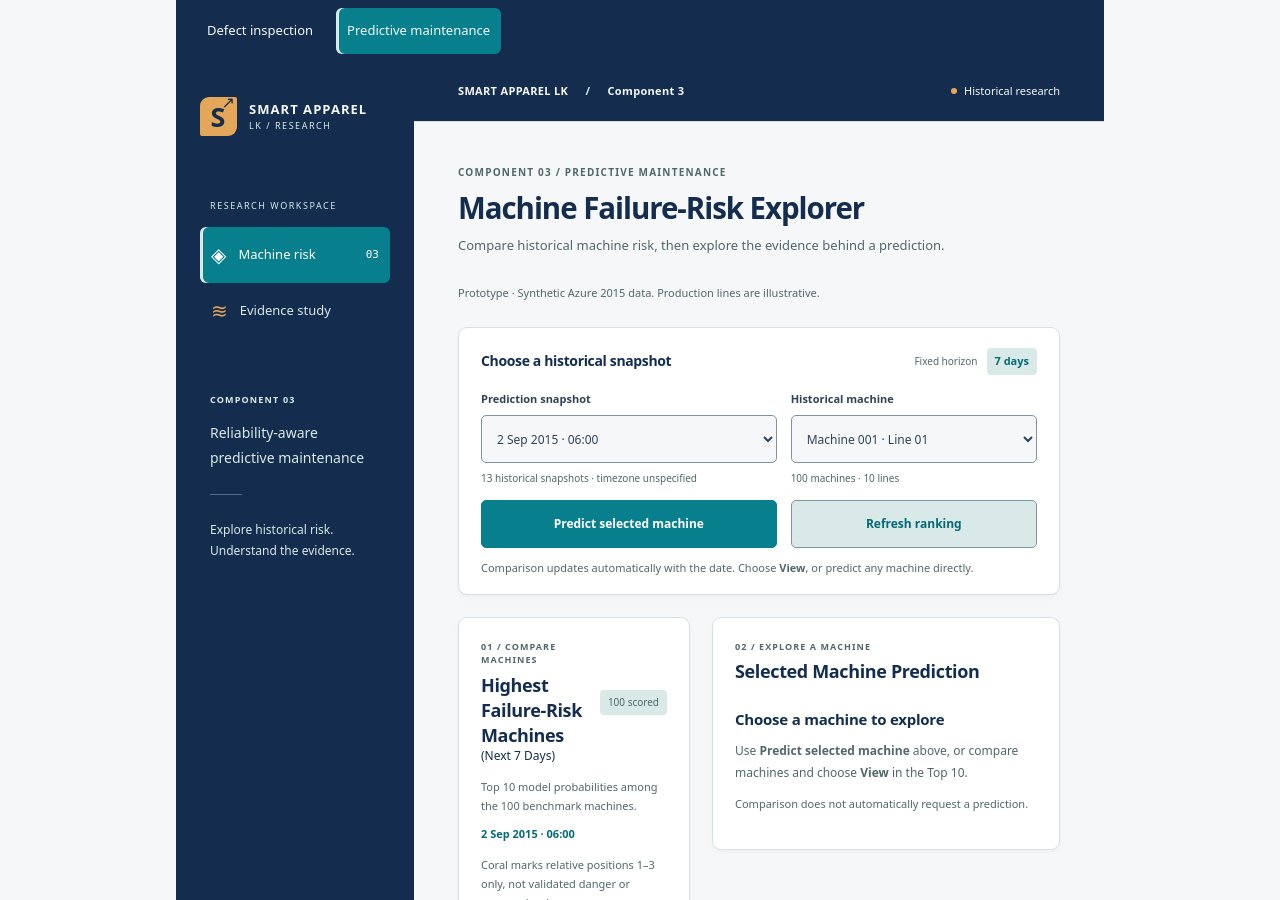
Test: Component 3 historical prediction page › shows loading status and prevents duplicate submissions
The image size is (1280, 900).
Click the button "Predict selected machine" at (629, 524), box [481,500,777,548]
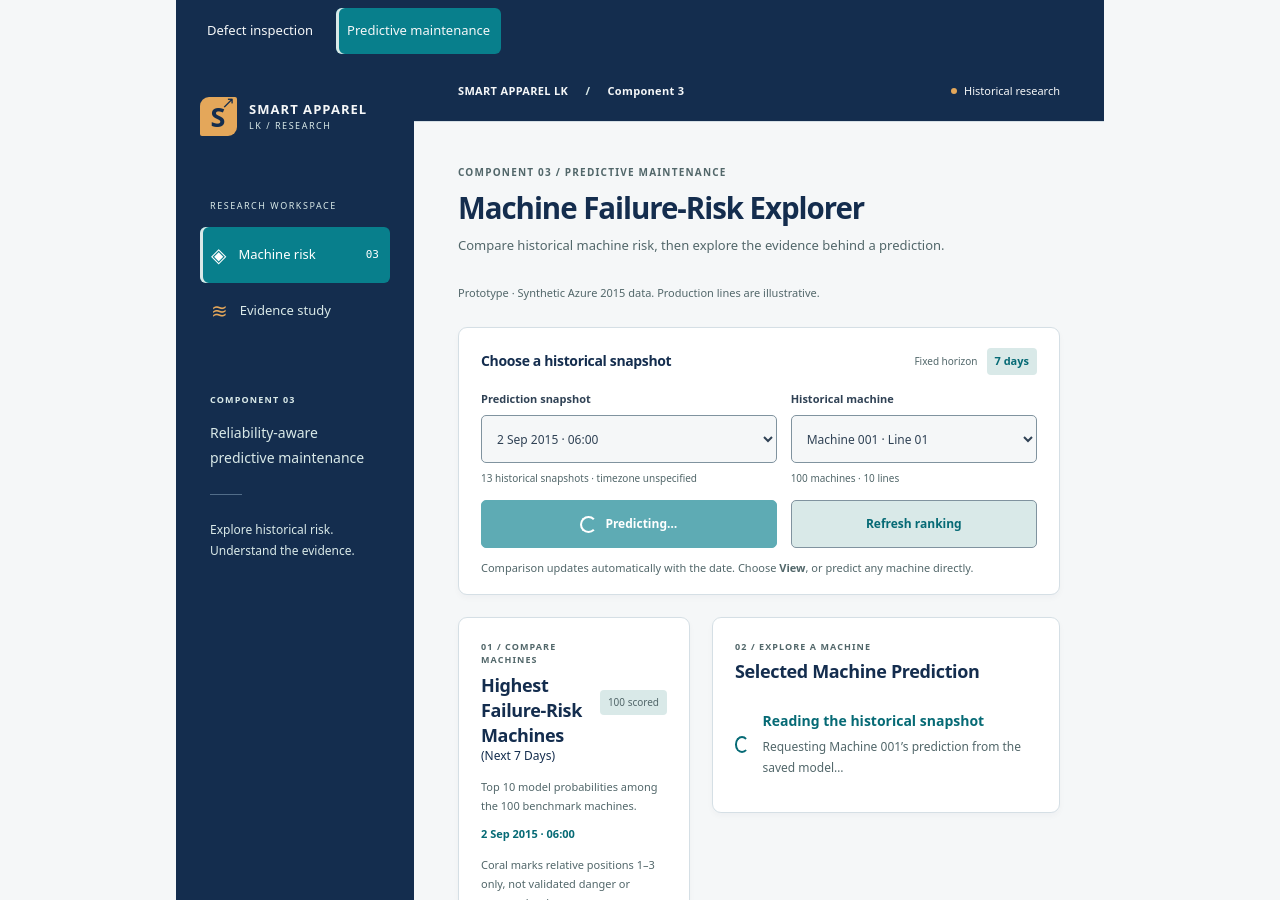
Now the message shows "Reading the historical snapshot", box [762,712,984,730]
Now the button "Predicting…" is disabled, box [481,500,777,548]
Submit the form named "Predicting…", box [481,391,1037,548]
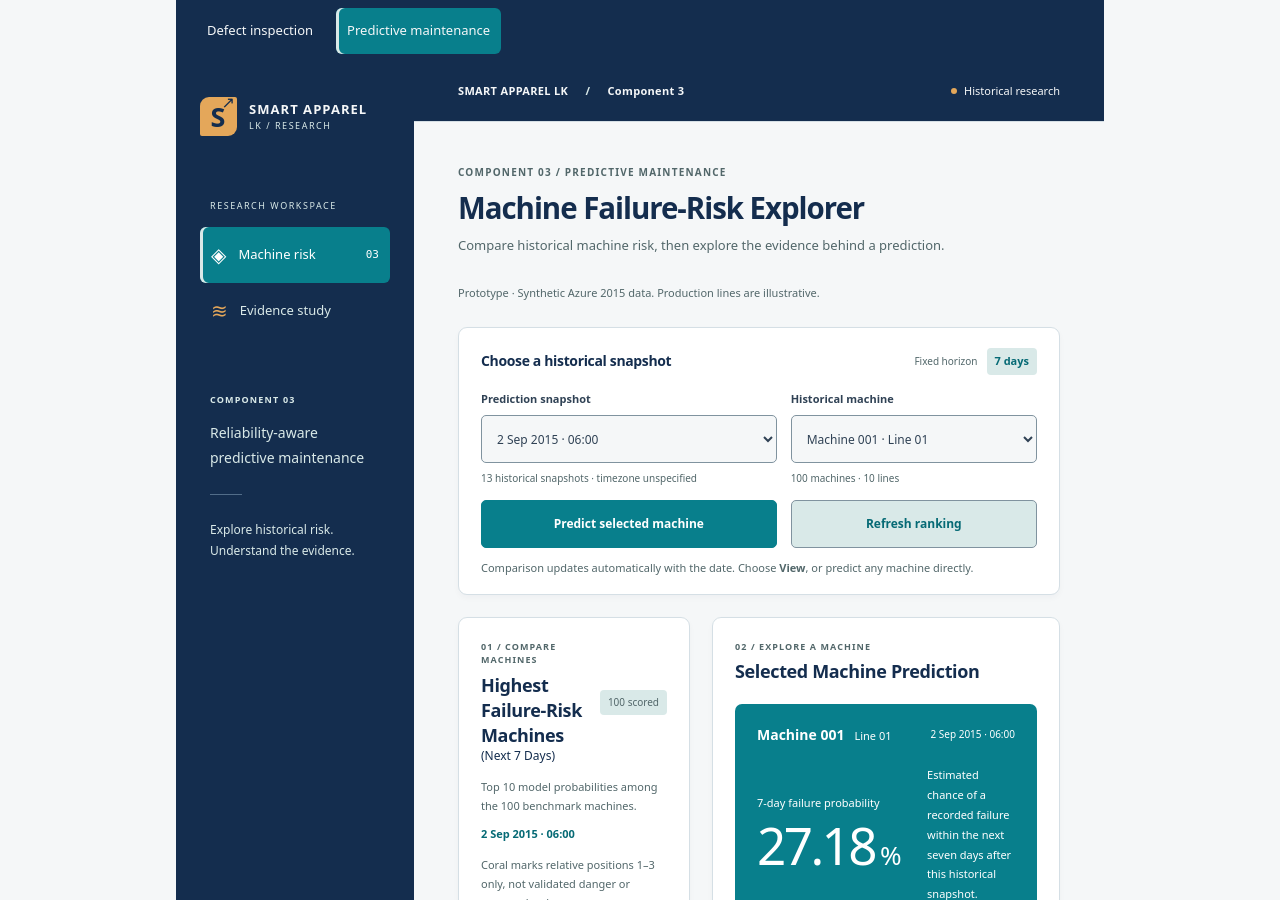
Now the element with test id "failure-probability" is shown, box [757,816,899,875]
